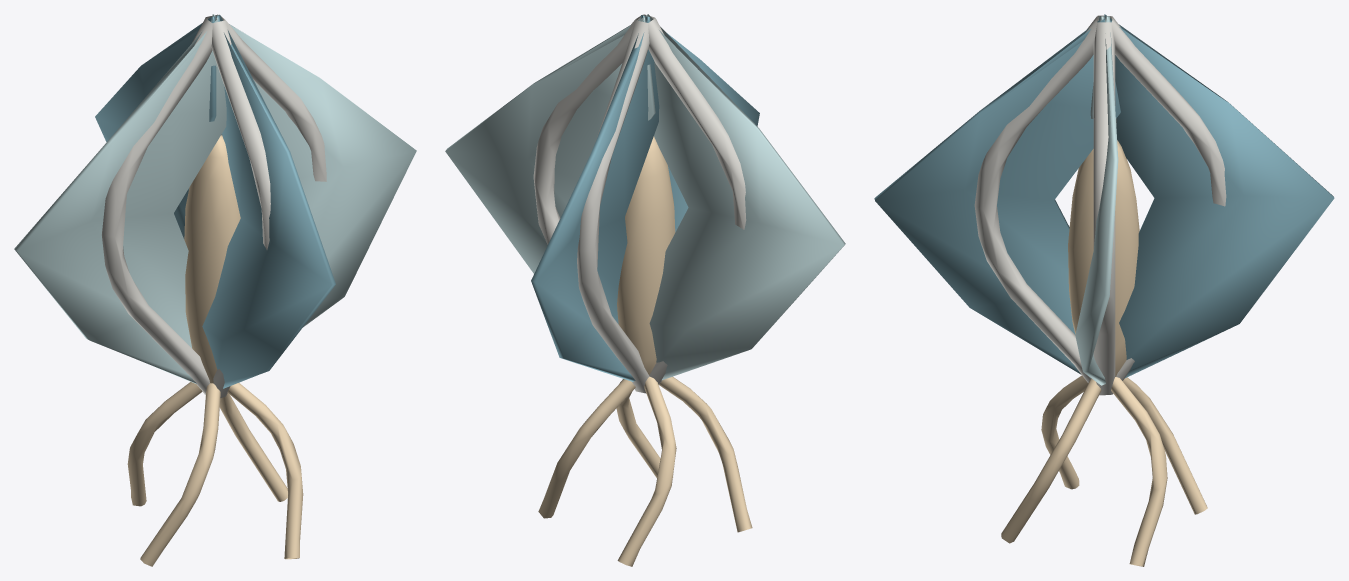
File: bio_lantern_sail_02_far.glb
3 renders of one model, left to right at view 1: azimuth 30°, elevation 25°; view 2: azimuth 150°, elevation 25°; view 3: azimuth 270°, elevation 25°, orthographic.
Parts seen in each view (by area): view 1: Ribbed sensory membrane.002, Ribbed sensory membrane.003, Ribbed sensory membrane, Buoyancy spindle, Membrane leading seam.002, Membrane leading seam.003, Ribbed sensory membrane.001, Trailing electroreceptor.003, Trailing electroreceptor.002, Membrane leading seam, Trailing electroreceptor.001, Trailing electroreceptor; view 2: Ribbed sensory membrane.002, Ribbed sensory membrane, Ribbed sensory membrane.001, Buoyancy spindle, Membrane leading seam.001, Membrane leading seam.002, Membrane leading seam, Trailing electroreceptor.001, Trailing electroreceptor.002, Trailing electroreceptor, Ribbed sensory membrane.003, Trailing electroreceptor.003; view 3: Ribbed sensory membrane.001, Ribbed sensory membrane.003, Membrane leading seam.003, Buoyancy spindle, Ribbed sensory membrane, Membrane leading seam, Membrane leading seam.001, Trailing electroreceptor, Trailing electroreceptor.003, Trailing electroreceptor.001, Trailing electroreceptor.002.
Boxes of the visible parts, x1,y1,x2,y2 form: Ribbed sensory membrane.002: [14, 16, 226, 383]; Ribbed sensory membrane.003: [202, 15, 335, 388]; Ribbed sensory membrane: [212, 14, 416, 327]; Buoyancy spindle: [184, 135, 240, 383]; Membrane leading seam.002: [102, 18, 212, 395]; Membrane leading seam.003: [211, 20, 270, 397]; Ribbed sensory membrane.001: [95, 16, 216, 238]; Trailing electroreceptor.003: [227, 383, 303, 559]; Trailing electroreceptor.002: [140, 383, 220, 566]; Membrane leading seam: [218, 14, 326, 395]; Trailing electroreceptor.001: [127, 382, 202, 506]; Trailing electroreceptor: [219, 393, 287, 501]; Ribbed sensory membrane.002: [646, 14, 845, 380]; Ribbed sensory membrane: [445, 16, 655, 273]; Ribbed sensory membrane.001: [531, 16, 659, 381]; Buoyancy spindle: [617, 136, 675, 375]; Membrane leading seam.001: [577, 20, 649, 393]; Membrane leading seam.002: [648, 18, 746, 384]; Membrane leading seam: [533, 15, 643, 244]; Trailing electroreceptor.001: [617, 376, 676, 566]; Trailing electroreceptor.002: [659, 376, 752, 532]; Trailing electroreceptor: [538, 379, 635, 518]; Ribbed sensory membrane.003: [640, 15, 759, 231]; Trailing electroreceptor.003: [616, 379, 673, 477]; Ribbed sensory membrane.001: [1104, 14, 1334, 378]; Ribbed sensory membrane.003: [874, 16, 1121, 374]; Membrane leading seam.003: [974, 16, 1098, 382]; Buoyancy spindle: [1068, 140, 1139, 376]; Ribbed sensory membrane: [1075, 16, 1118, 385]; Membrane leading seam: [1093, 22, 1115, 395]; Membrane leading seam.001: [1110, 16, 1226, 394]; Trailing electroreceptor: [1111, 377, 1167, 566]; Trailing electroreceptor.003: [1001, 378, 1101, 543]; Trailing electroreceptor.001: [1122, 377, 1207, 514]; Trailing electroreceptor.002: [1041, 375, 1087, 489].
Bounding box in the file's own units: 2.14 × 2.62 × 2.14.
